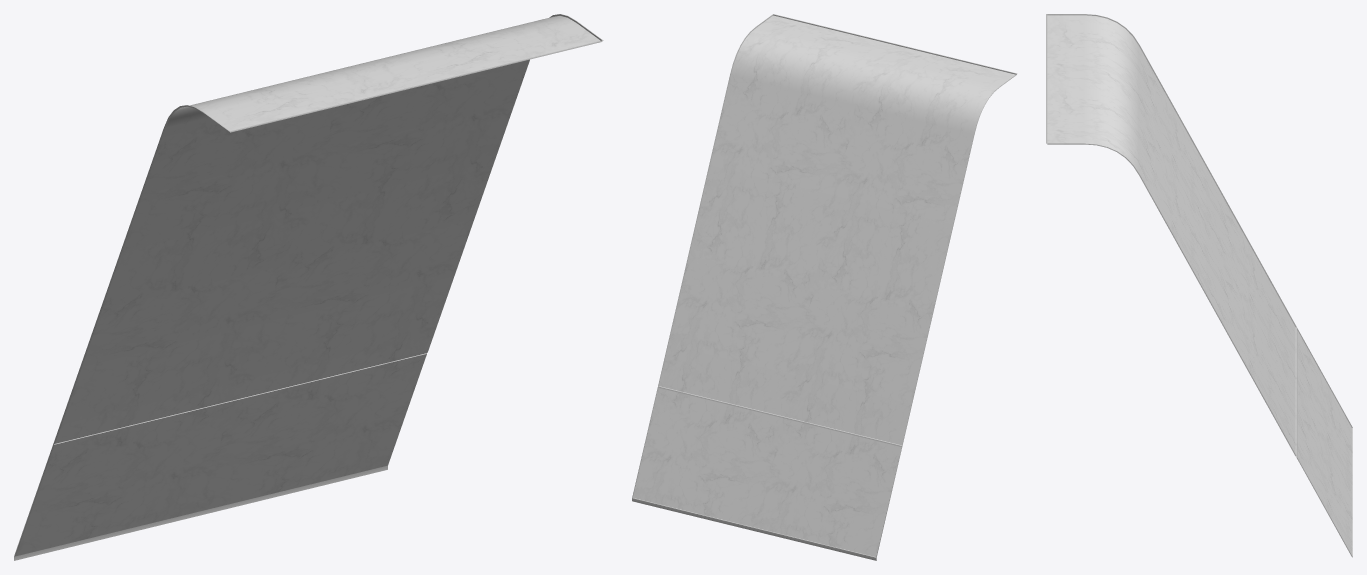
3 views of the same model, side by side, from view 1: azimuth 30°, elevation 25°; view 2: azimuth 150°, elevation 25°; view 3: azimuth 270°, elevation 25° (orthographic). The views are drawn at different scales.
Parts seen in each view (by area): view 1: M_W_005_h_8x12; view 2: M_W_005_h_8x12; view 3: M_W_005_h_8x12.
Boxes of the visible parts, bbox=[...] form: M_W_005_h_8x12: bbox=[14, 14, 603, 560]; M_W_005_h_8x12: bbox=[632, 14, 1017, 560]; M_W_005_h_8x12: bbox=[1046, 14, 1352, 557].
Size of the model in its own units: 8 by 8 by 12.
